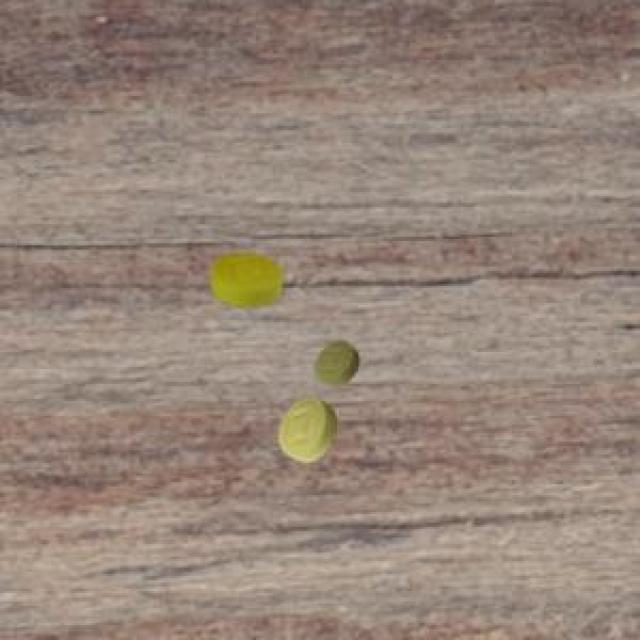Decolgen: (204, 234, 287, 320), (262, 393, 351, 464), (301, 332, 375, 394)
